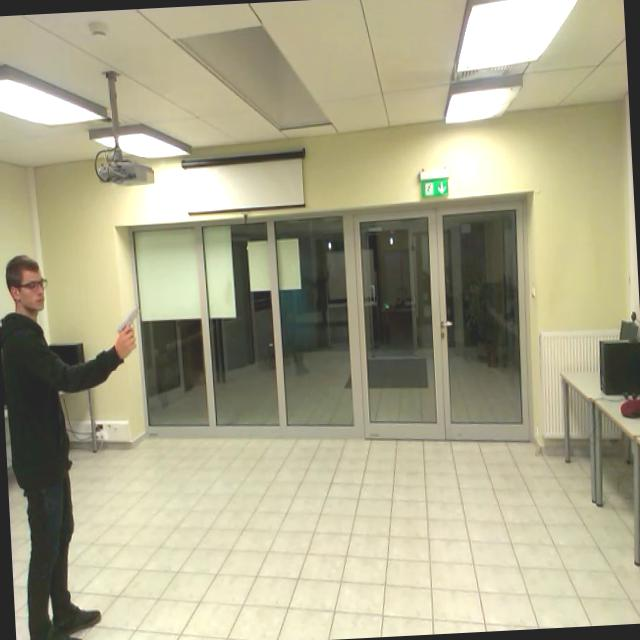handgun: (112, 298, 147, 354)
